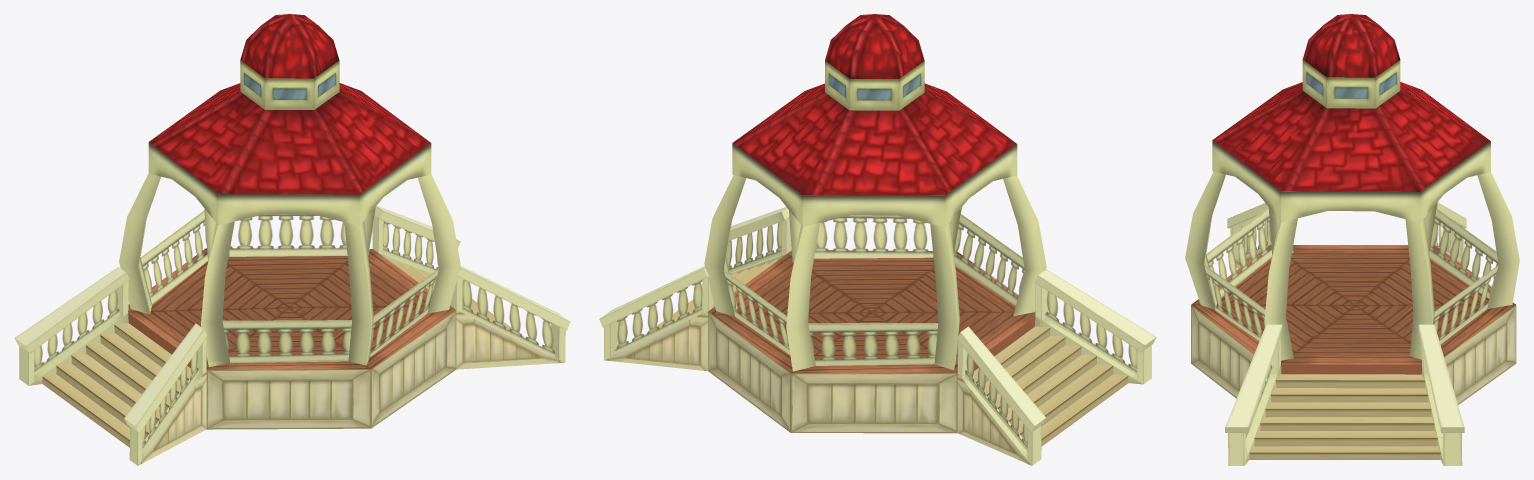
The model's file is gazebo.glb.
3 views of the same model, side by side, from view 1: azimuth 30°, elevation 25°; view 2: azimuth 150°, elevation 25°; view 3: azimuth 270°, elevation 25° (orthographic). The views are drawn at different scales.
Parts seen in each view (by area): view 1: o11, gazebo_ground_top, base, fence, polySurface60, gazebo_stairs_1, o1_1, gazebo_post_1_top, o12, o13, o8, polySurface54 (+5 smaller); view 2: o11, gazebo_ground_top, base, fence, polySurface60, gazebo_stairs_1, o1_1, o16, o8, o12, o15, o1 (+5 smaller); view 3: o11, gazebo_ground_top, gazebo_stairs_3, polySurface60, fence, base, o16, gazebo_post_1_top, o15, o13.
Part boxes in pixels (box(x1,y1,x2,y2)): o11: box(148, 14, 431, 225); gazebo_ground_top: box(128, 248, 455, 369); base: box(123, 310, 456, 429); fence: box(140, 210, 438, 363); polySurface60: box(14, 206, 570, 465); gazebo_stairs_1: box(42, 313, 191, 447); o1_1: box(382, 254, 564, 369); gazebo_post_1_top: box(344, 221, 373, 365); o12: box(201, 221, 234, 366); o13: box(418, 174, 460, 313); o8: box(119, 173, 160, 314); polySurface54: box(462, 279, 554, 356); o11: box(732, 14, 1017, 227); gazebo_ground_top: box(708, 250, 1035, 373); base: box(708, 311, 957, 433); fence: box(724, 213, 1024, 365); polySurface60: box(599, 207, 1156, 465); gazebo_stairs_1: box(972, 316, 1128, 446); o1_1: box(604, 256, 780, 371); o16: box(786, 223, 819, 371); o8: box(930, 222, 959, 370); o12: box(1003, 175, 1046, 315); o15: box(704, 175, 746, 316); o1: box(957, 374, 1031, 465); o11: box(1212, 14, 1490, 222); gazebo_ground_top: box(1191, 245, 1515, 364); gazebo_stairs_3: box(1249, 364, 1442, 459); polySurface60: box(1225, 203, 1466, 465); fence: box(1204, 207, 1498, 344); base: box(1191, 305, 1516, 404); o16: box(1477, 172, 1519, 308); gazebo_post_1_top: box(1185, 171, 1225, 309); o15: box(1405, 218, 1434, 359); o13: box(1264, 218, 1297, 360).
Bounding box in the file's own units: 0.244 × 0.191 × 0.1657.
12 materials, 12 textured.
